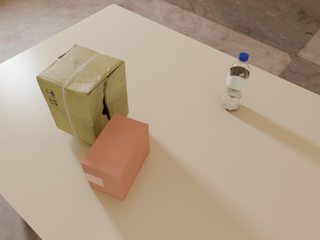bottle: (221, 53, 250, 111)
box: (36, 44, 129, 145), (81, 114, 150, 201)
